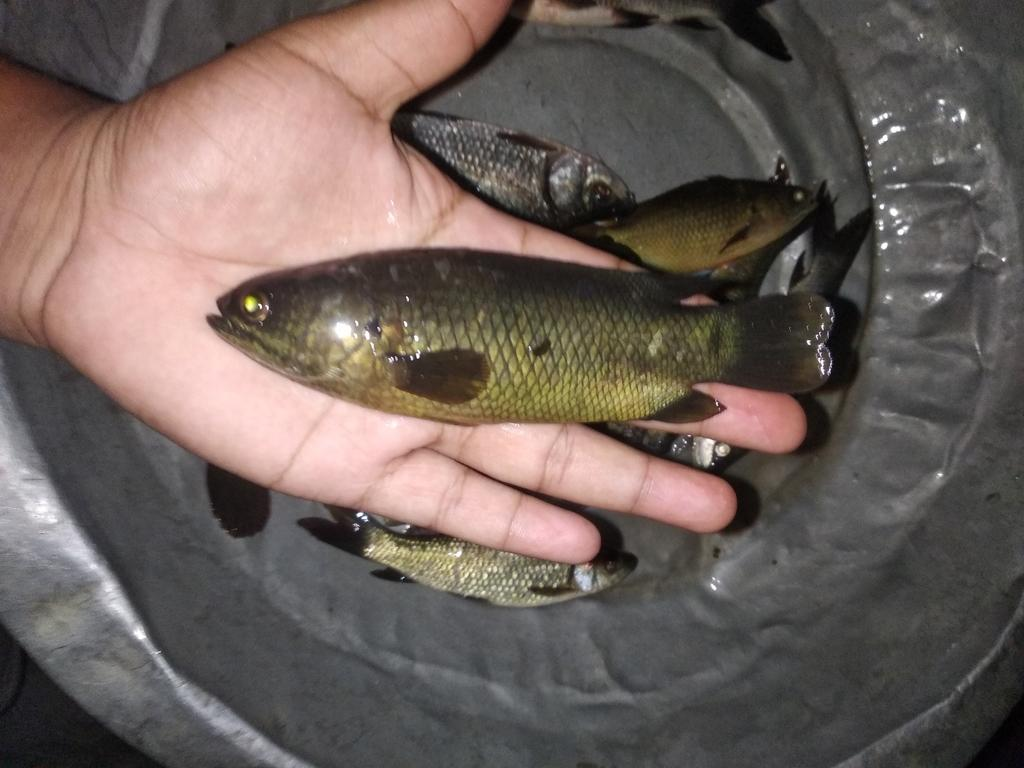Climbing Perch: (213, 250, 838, 428)
